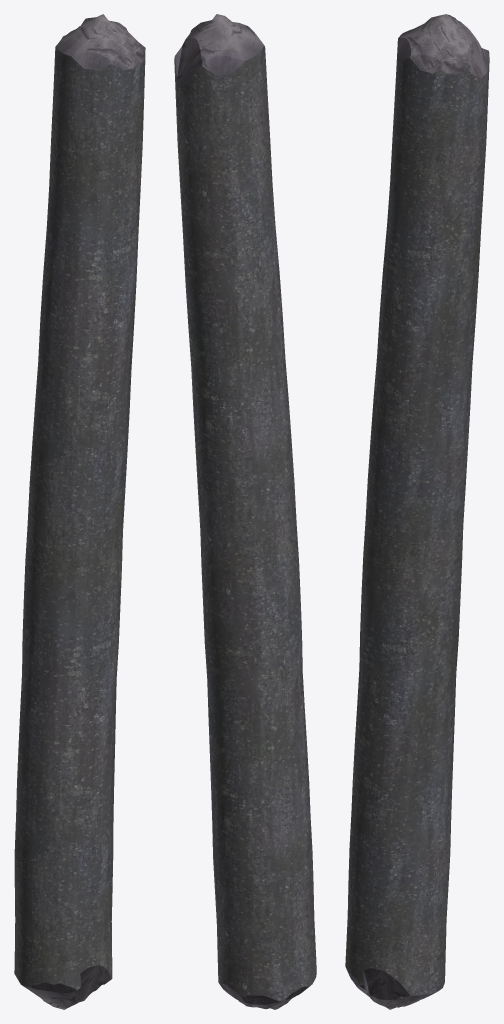
The picture shows the model from 3 angles, left to right: view 1: azimuth 30°, elevation 25°; view 2: azimuth 150°, elevation 25°; view 3: azimuth 330°, elevation 25°; orthographic projection. The views are drawn at different scales.
Parts seen in each view (by area): view 1: SM_FH_Ash_Tree_02_half_top_LOD0; view 2: SM_FH_Ash_Tree_02_half_top_LOD0; view 3: SM_FH_Ash_Tree_02_half_top_LOD0.
Part boxes in pixels (x1,y1,x2,y2): SM_FH_Ash_Tree_02_half_top_LOD0: (14,14,145,1009); SM_FH_Ash_Tree_02_half_top_LOD0: (174,14,316,1009); SM_FH_Ash_Tree_02_half_top_LOD0: (345,14,489,1009).
Size of the model in its own units: 0.5587 by 4.24 by 0.4064.
1 material, 1 textured.
